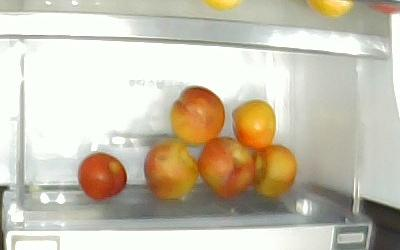prune: (198, 137, 256, 198), (144, 140, 199, 200), (171, 86, 226, 145), (249, 143, 297, 197), (78, 153, 128, 200), (232, 100, 276, 149)
